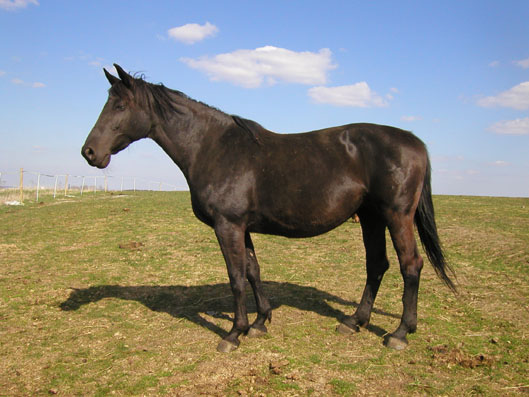horse: (62, 46, 479, 353)
